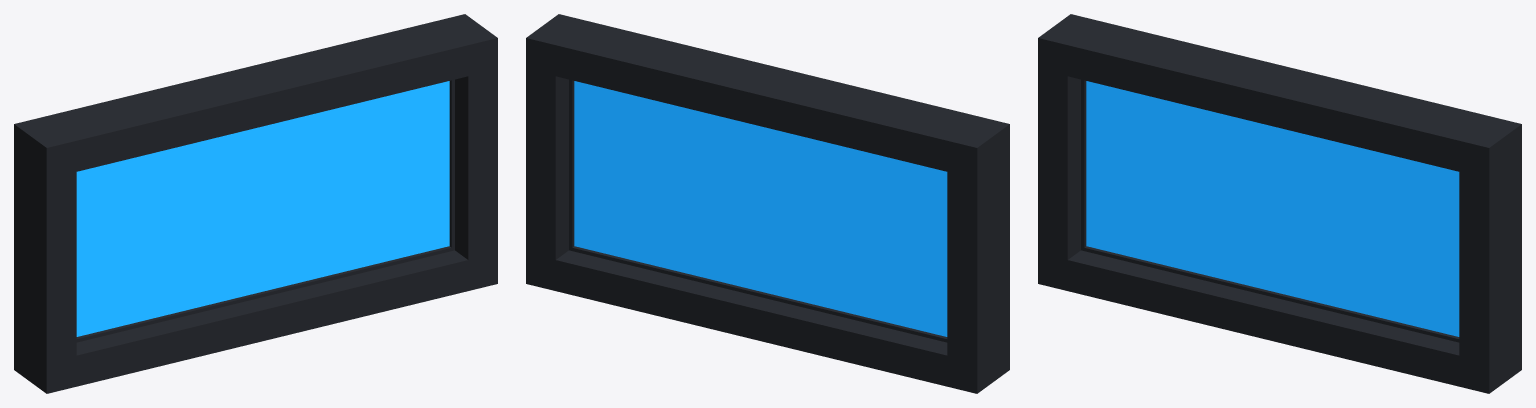
Rendered from janela_larga_inteira_preta.glb.
3 views of the same model, side by side, from view 1: azimuth 30°, elevation 25°; view 2: azimuth 150°, elevation 25°; view 3: azimuth 330°, elevation 25° (orthographic).
Visible parts, largest first — view 1: janela_larga_inteira_preta; view 2: janela_larga_inteira_preta; view 3: janela_larga_inteira_preta.
Boxes of the visible parts, x1,y1,x2,y2 form: janela_larga_inteira_preta: [14, 14, 497, 393]; janela_larga_inteira_preta: [526, 14, 1009, 393]; janela_larga_inteira_preta: [1038, 14, 1521, 393].
Size of the model in its own units: 1.67 by 0.87 by 0.21.
